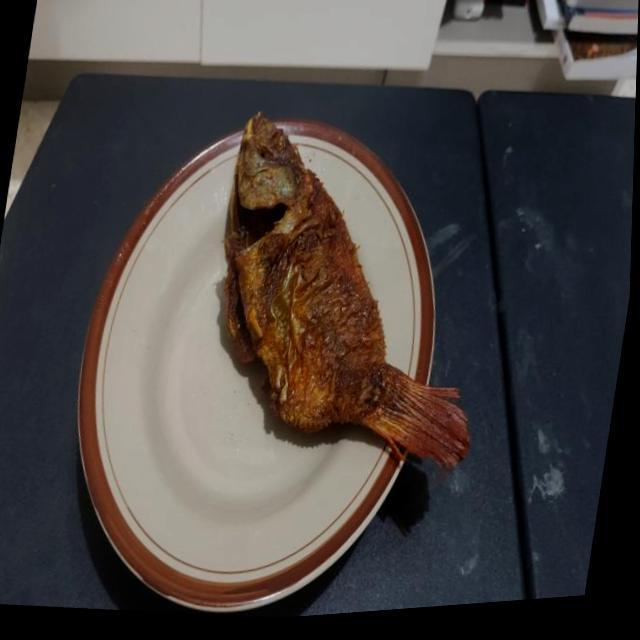ikan_mujair: (223, 111, 470, 468)
